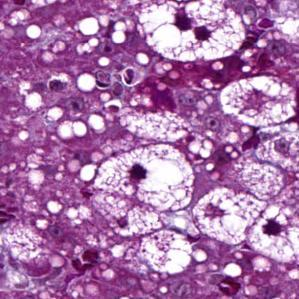ballooning: (93, 141, 195, 213), (135, 3, 246, 64), (190, 184, 268, 248), (218, 73, 296, 130), (247, 200, 296, 268)
